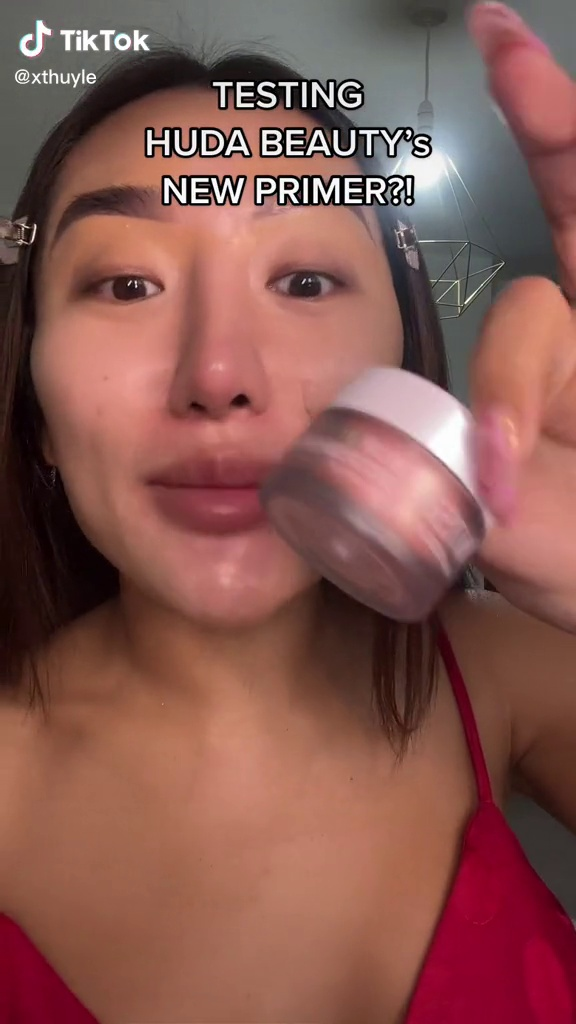train' :'yolo_data/train/images',: (253, 352, 519, 635)
